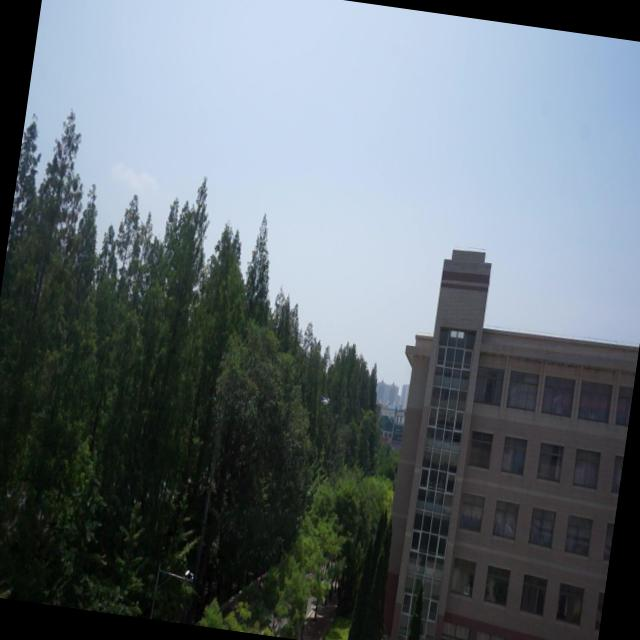drone: (318, 395, 331, 409)
